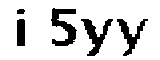5: (45, 6, 79, 52)
i: (9, 6, 29, 48)
y: (81, 17, 115, 60), (117, 18, 151, 58)
